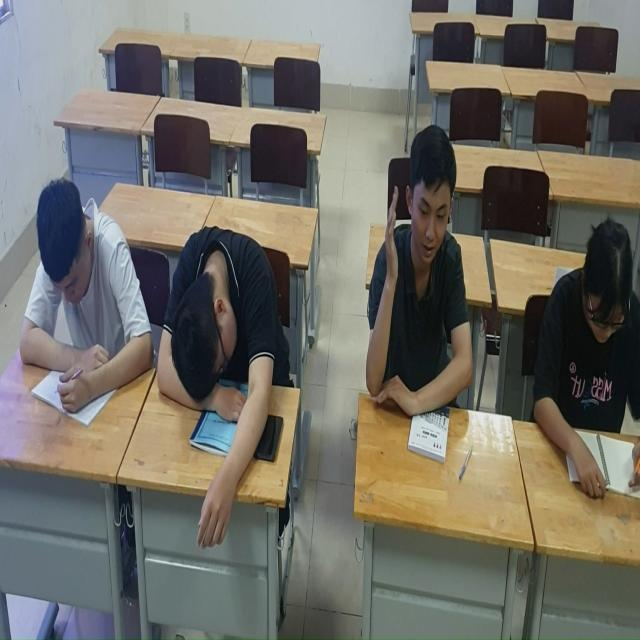raise_hand: (366, 125, 482, 462)
read: (19, 180, 154, 429), (542, 211, 640, 487)
sleep: (158, 211, 282, 548)
